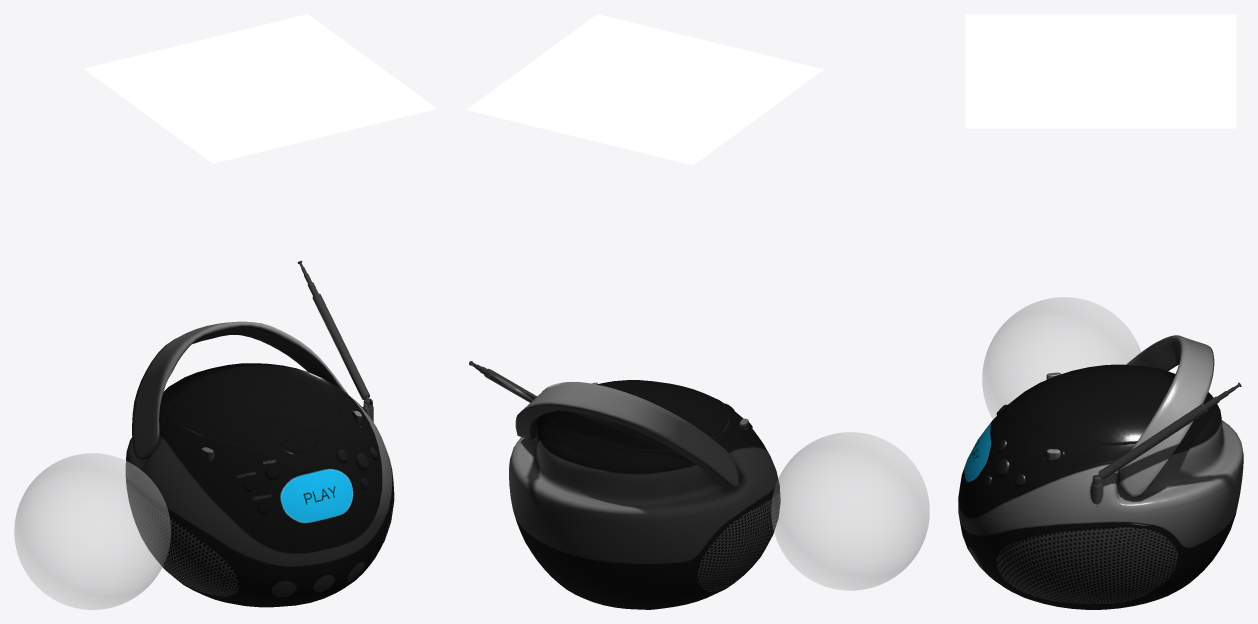
3 renders of one model, left to right at view 1: azimuth 30°, elevation 25°; view 2: azimuth 150°, elevation 25°; view 3: azimuth 270°, elevation 25°, orthographic. The views are drawn at different scales.
Parts seen in each view (by area): view 1: BoomBox, Plane.001, Icosphere; view 2: BoomBox, Plane.001, Icosphere; view 3: BoomBox, Plane.001, Icosphere.
Part boxes in pixels (<box>): BoomBox: <box>125,260,394,607</box>; Plane.001: <box>83,14,436,163</box>; Icosphere: <box>14,453,170,609</box>; BoomBox: <box>469,361,780,609</box>; Plane.001: <box>466,14,823,165</box>; Icosphere: <box>771,432,929,590</box>; BoomBox: <box>958,335,1243,609</box>; Plane.001: <box>965,14,1236,128</box>; Icosphere: <box>982,297,1140,418</box>.
Size of what is drawn, in the model's own units: 5.58 by 7.01 by 3.57.
3 materials, 1 textured.
